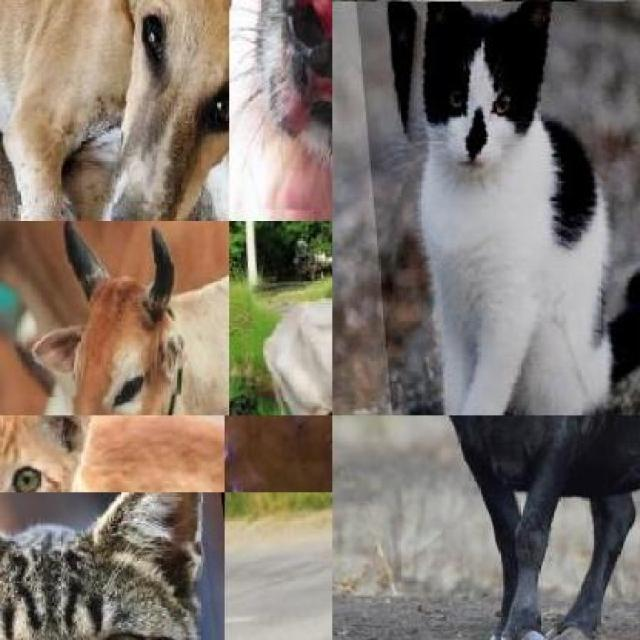buffalo: (332, 415, 640, 640)
cat: (354, 2, 640, 416), (0, 492, 225, 640), (0, 416, 225, 492)
cow: (0, 220, 229, 400), (57, 255, 229, 416)
dog: (0, 0, 229, 220), (230, 0, 332, 220)
injured: (257, 0, 332, 211)
